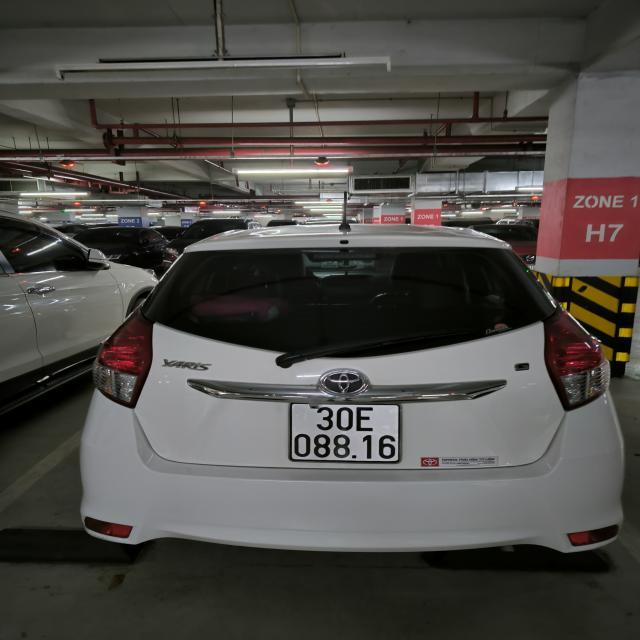license: (288, 402, 400, 463)
